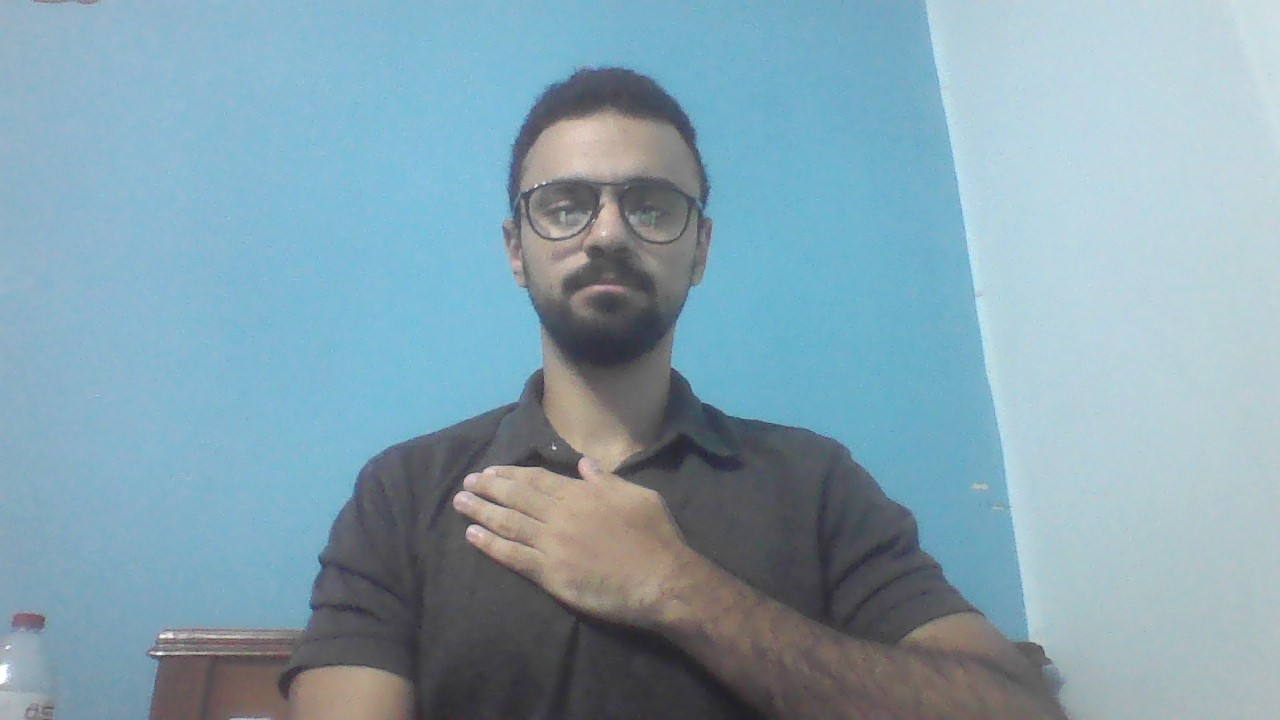please: (454, 448, 700, 628)
